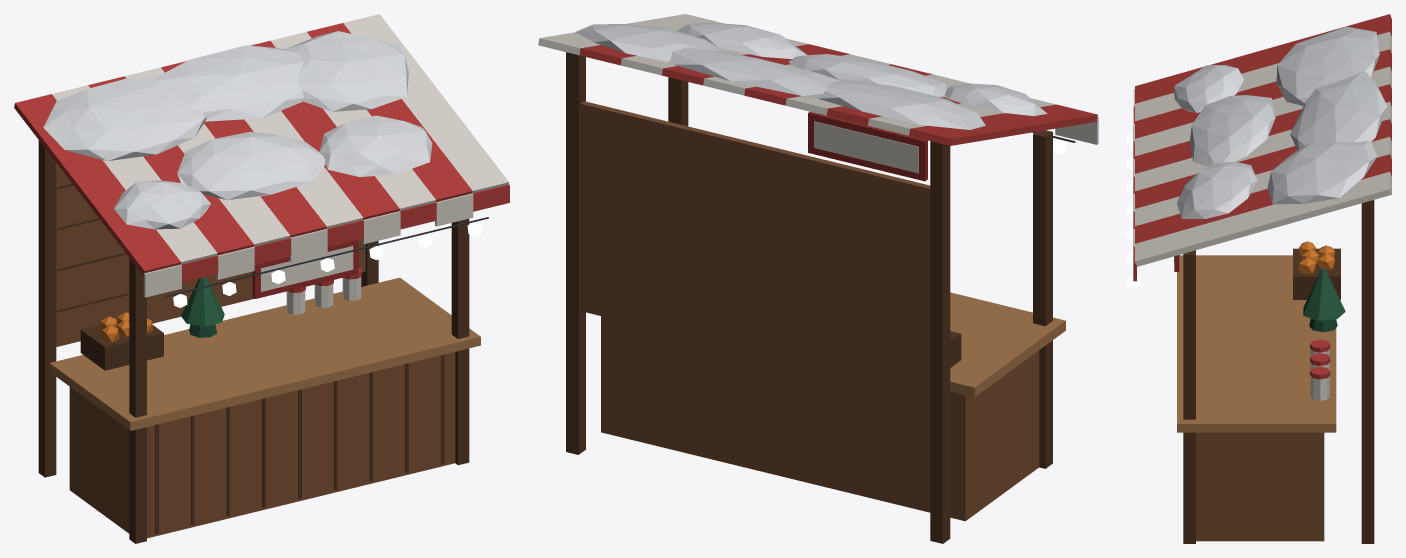
The model's file is market-stall.glb.
The picture shows the model from 3 angles, left to right: view 1: azimuth 30°, elevation 25°; view 2: azimuth 150°, elevation 25°; view 3: azimuth 270°, elevation 25°; orthographic projection. The views are drawn at different scales.
Visible parts, largest first — view 1: market-stall; view 2: market-stall; view 3: market-stall.
Part boxes in pixels (x1,y1,x2,y2): market-stall: (14,14,509,543); market-stall: (538,14,1098,543); market-stall: (1127,14,1391,543).
Bounding box in the file's own units: 2.6 × 2.56 × 1.66.
